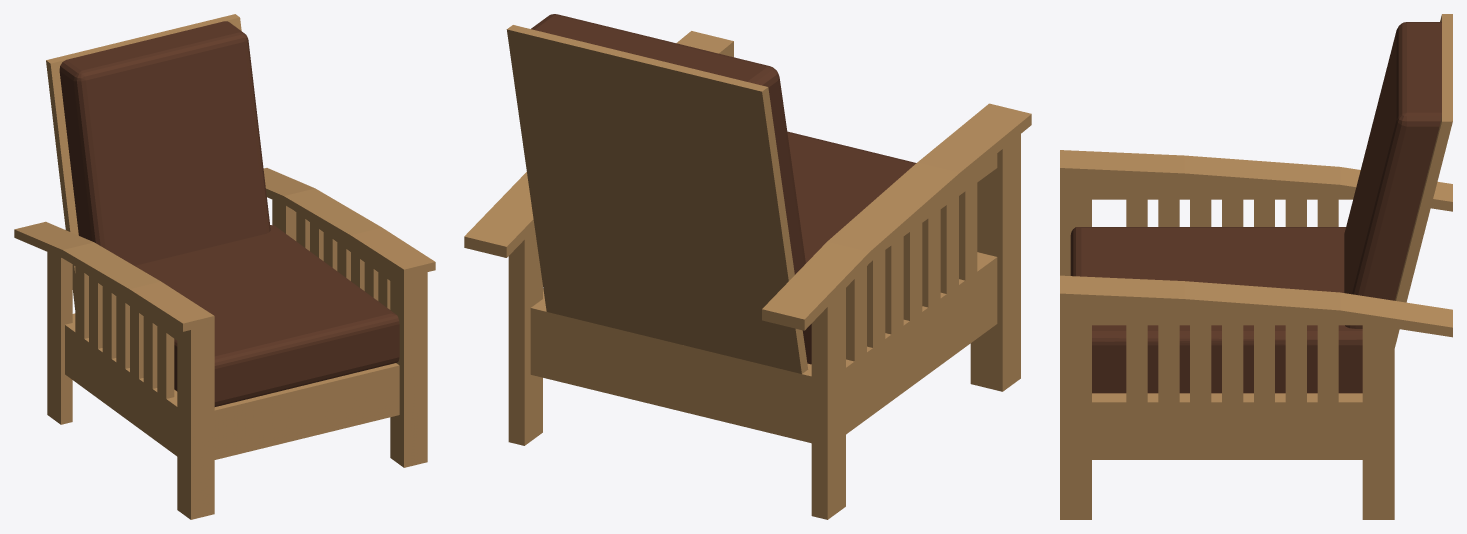
The model's file is chair-by-cmht-oculus-aoEzCkLzV9h.glb.
3 views of the same model, side by side, from view 1: azimuth 30°, elevation 25°; view 2: azimuth 150°, elevation 25°; view 3: azimuth 270°, elevation 25° (orthographic). The views are drawn at different scales.
Visible parts, largest first — view 1: Node; view 2: Node; view 3: Node.
Boxes of the visible parts, box(x1,y1,x2,y2) form: Node: box(14, 14, 435, 519); Node: box(464, 14, 1031, 519); Node: box(1060, 14, 1452, 519).
Size of the model in its own units: 32 by 40 by 37.
